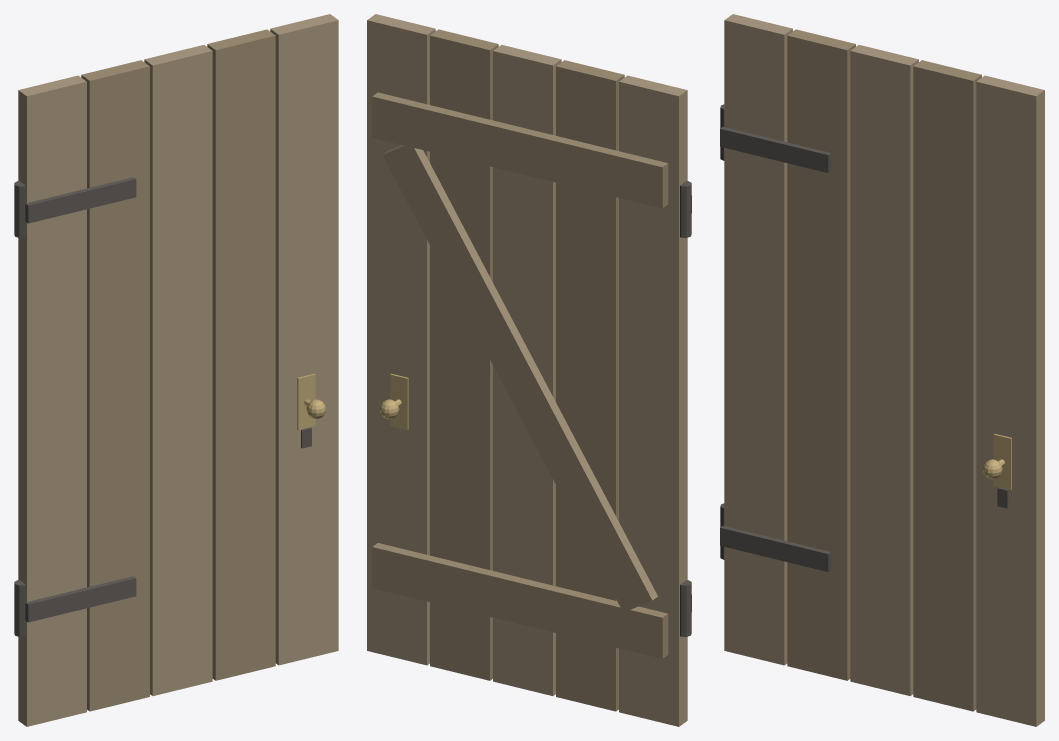
File: cabin_door.glb
3 views of the same model, side by side, from view 1: azimuth 30°, elevation 25°; view 2: azimuth 150°, elevation 25°; view 3: azimuth 330°, elevation 25° (orthographic).
Parts seen in each view (by area): view 1: plank3, plank0, plank2, plank4, plank1, strap0.45, strap2.0, plate-1, pin0.45, pin2.0; view 2: plank0, plank4, plank2, plank1, plank3, brace, rail2.1, rail0.35, plate1, pin0.45, pin2.0; view 3: plank4, plank3, plank2, plank1, plank0, strap0.45, strap2.0, plate-1.
Part boxes in pixels (left/top/right/bottom): plank3: left=207, top=29, right=275, bottom=680; plank0: left=18, top=75, right=86, bottom=726; plank2: left=144, top=45, right=212, bottom=695; plank4: left=270, top=14, right=338, bottom=665; plank1: left=81, top=60, right=149, bottom=711; strap0.45: left=25, top=576, right=136, bottom=622; strap2.0: left=25, top=177, right=136, bottom=223; plate-1: left=297, top=373, right=315, bottom=429; pin0.45: left=14, top=580, right=25, bottom=636; pin2.0: left=14, top=181, right=25, bottom=237; plank0: left=619, top=75, right=687, bottom=726; plank4: left=367, top=14, right=435, bottom=665; plank2: left=493, top=44, right=561, bottom=695; plank1: left=556, top=60, right=624, bottom=711; plank3: left=430, top=29, right=498, bottom=680; brace: left=382, top=143, right=657, bottom=609; rail2.1: left=372, top=92, right=668, bottom=208; rail0.35: left=372, top=543, right=668, bottom=658; plate1: left=390, top=373, right=408, bottom=429; pin0.45: left=680, top=580, right=691, bottom=636; pin2.0: left=680, top=181, right=691, bottom=237; plank4: left=976, top=75, right=1044, bottom=726; plank3: left=913, top=60, right=981, bottom=711; plank2: left=850, top=45, right=918, bottom=696; plank1: left=787, top=29, right=855, bottom=680; plank0: left=724, top=14, right=792, bottom=665; strap0.45: left=720, top=525, right=831, bottom=571; strap2.0: left=720, top=126, right=831, bottom=172; plate-1: left=993, top=434, right=1011, bottom=489.
Bounding box in the file's own units: 1.3 × 2.45 × 0.28.
